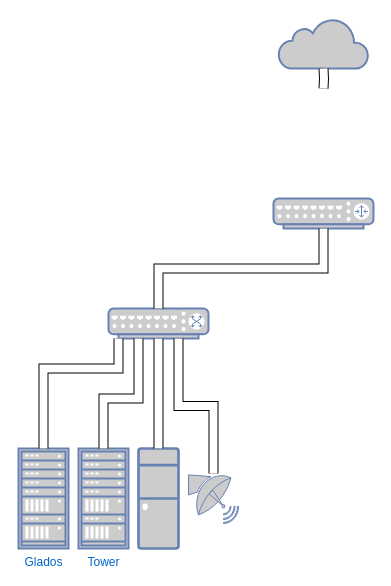
Image size: 391x586. Some labels were removed from this diagram. Here are the shapes that lost their labels. From the top down, the centre of each, then its label:
At (x=323, y=43): "ISP".
At (x=158, y=498): "Gaming".
